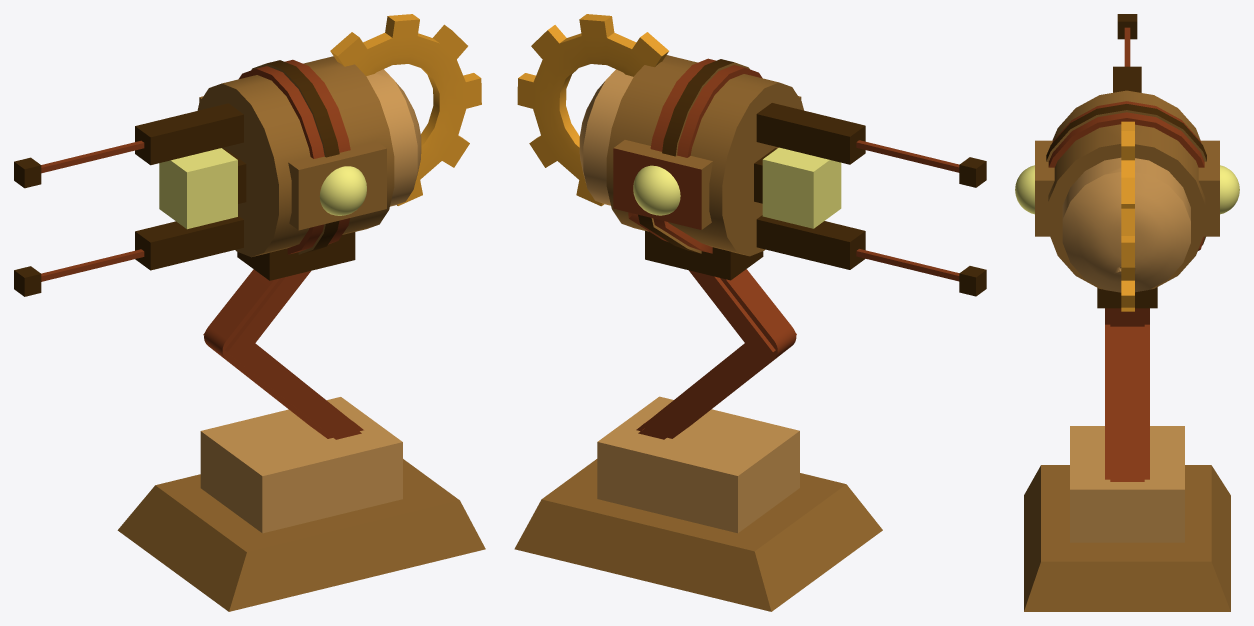
The model's file is Turret.fbx.
The picture shows the model from 3 angles, left to right: view 1: azimuth 30°, elevation 25°; view 2: azimuth 150°, elevation 25°; view 3: azimuth 270°, elevation 25°; orthographic projection. The views are drawn at different scales.
Visible parts, largest first — view 1: Cylinder001, Object001; view 2: Cylinder001, Object001; view 3: Object001, Cylinder001.
Part boxes in pixels (bbox=[...]): Cylinder001: bbox=[14, 14, 481, 296]; Object001: bbox=[117, 269, 485, 611]; Cylinder001: bbox=[517, 14, 986, 296]; Object001: bbox=[514, 269, 882, 611]; Object001: bbox=[1024, 308, 1230, 611]; Cylinder001: bbox=[1015, 14, 1239, 311].
Size of the model in its own units: 10.29 by 10.68 by 4.7.
Materials: 1 (1 with a texture image).
